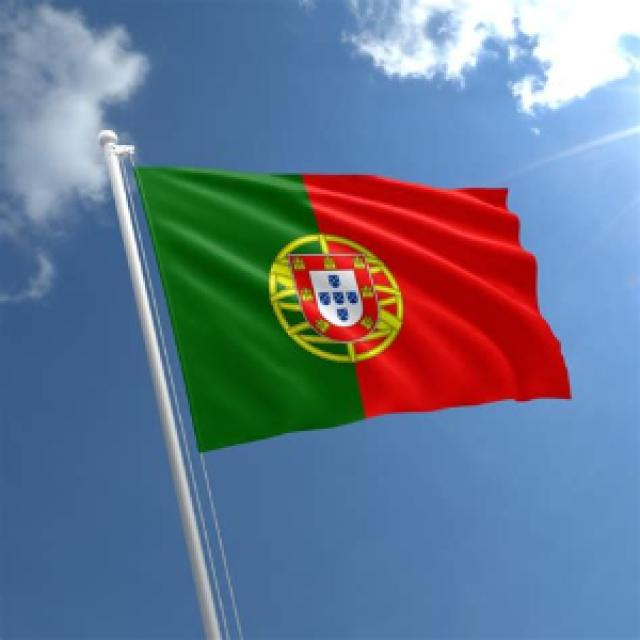portugal: (120, 132, 531, 468)
